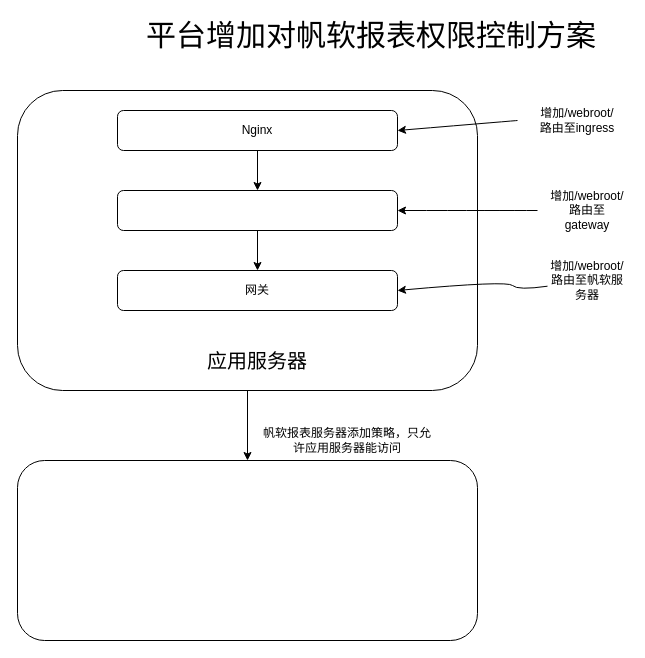
Some shapes in this 645 by 658 pixel diagram are drawn without their labels. The centre of each missing label's shape, as x and y in pixels:
"ingress" belongs at (257,210).
"帆软报表服务器" belongs at (247,550).
